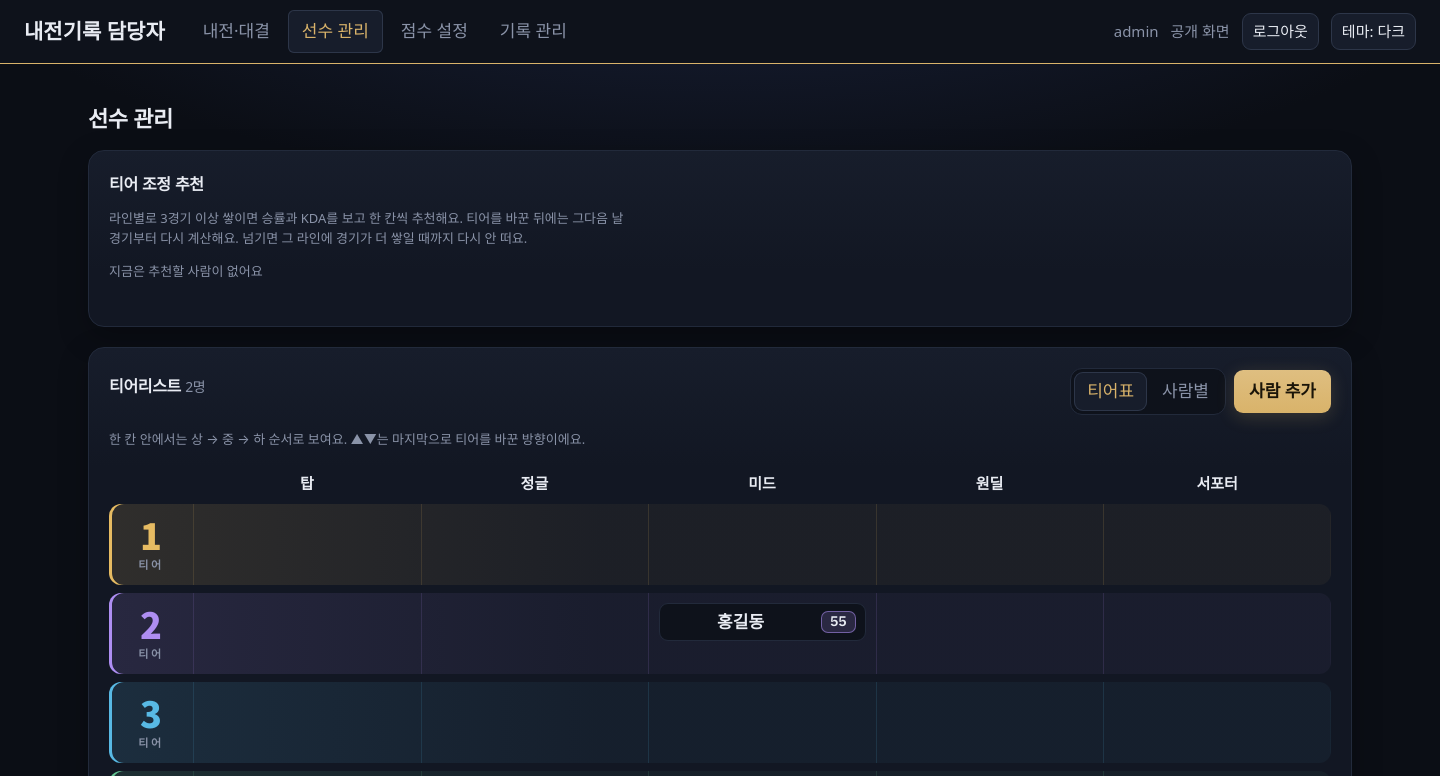
Test case: PlayerTierAdminPage › 같은 이름이 이미 있으면 서버를 부르지 않고 막는다
Step 1. Click the button "사람 추가" → (1282, 391), box x1=1234 y1=370 x2=1331 y2=413
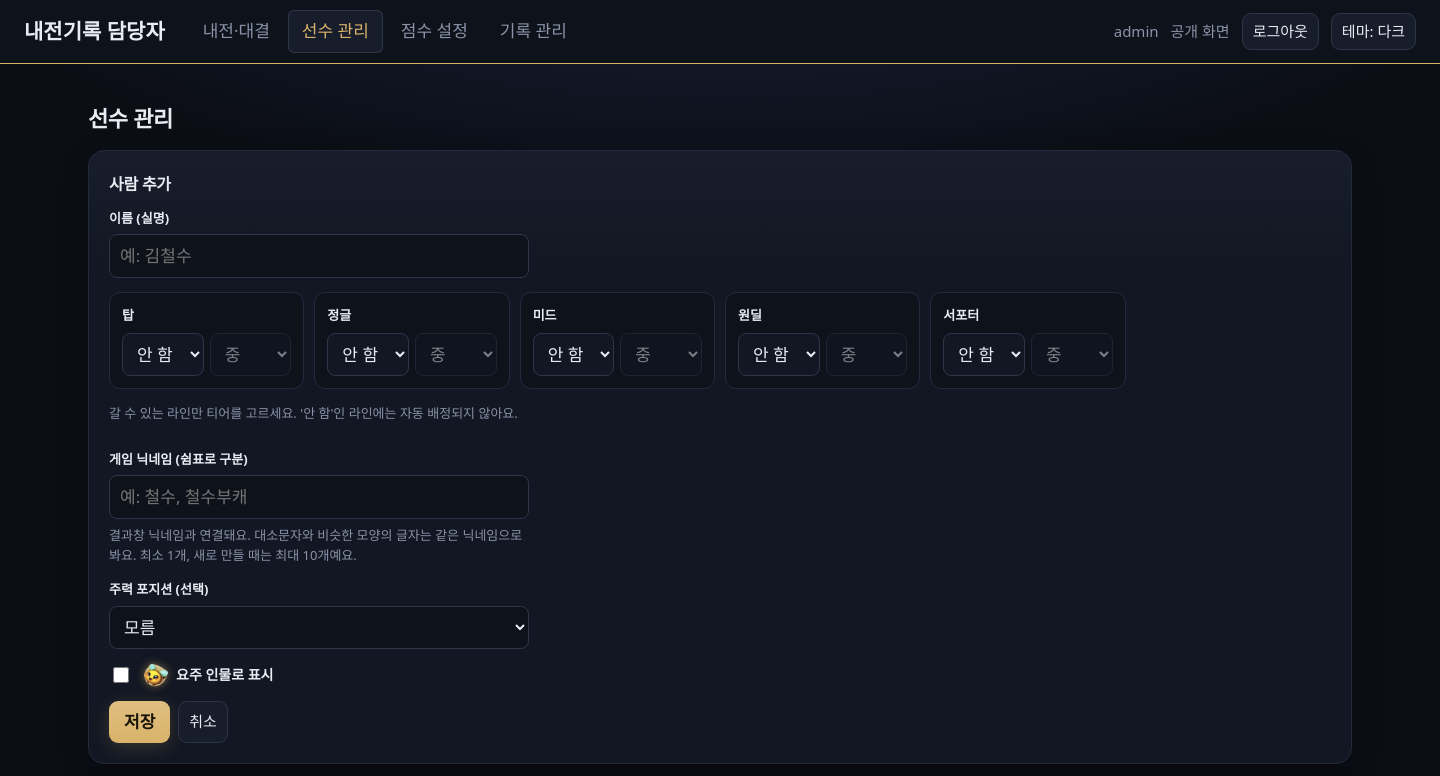
Step 2. Type "김철수" into the field labelled "이름 (실명)" → (319, 256), box x1=109 y1=234 x2=529 y2=278
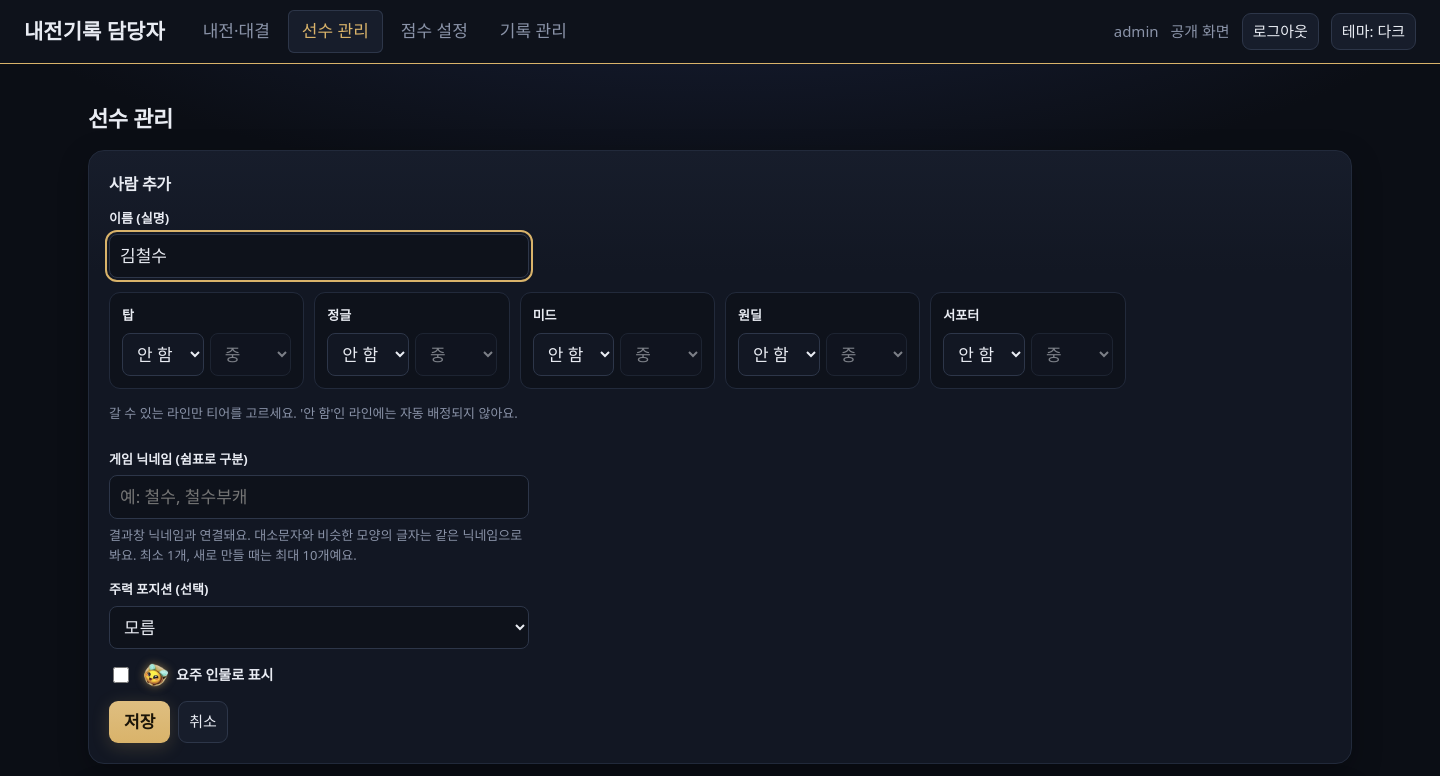
Step 3. Type "x" into the field labelled "게임 닉네임 (쉼표로 구분)" → (319, 497), box x1=109 y1=475 x2=529 y2=519
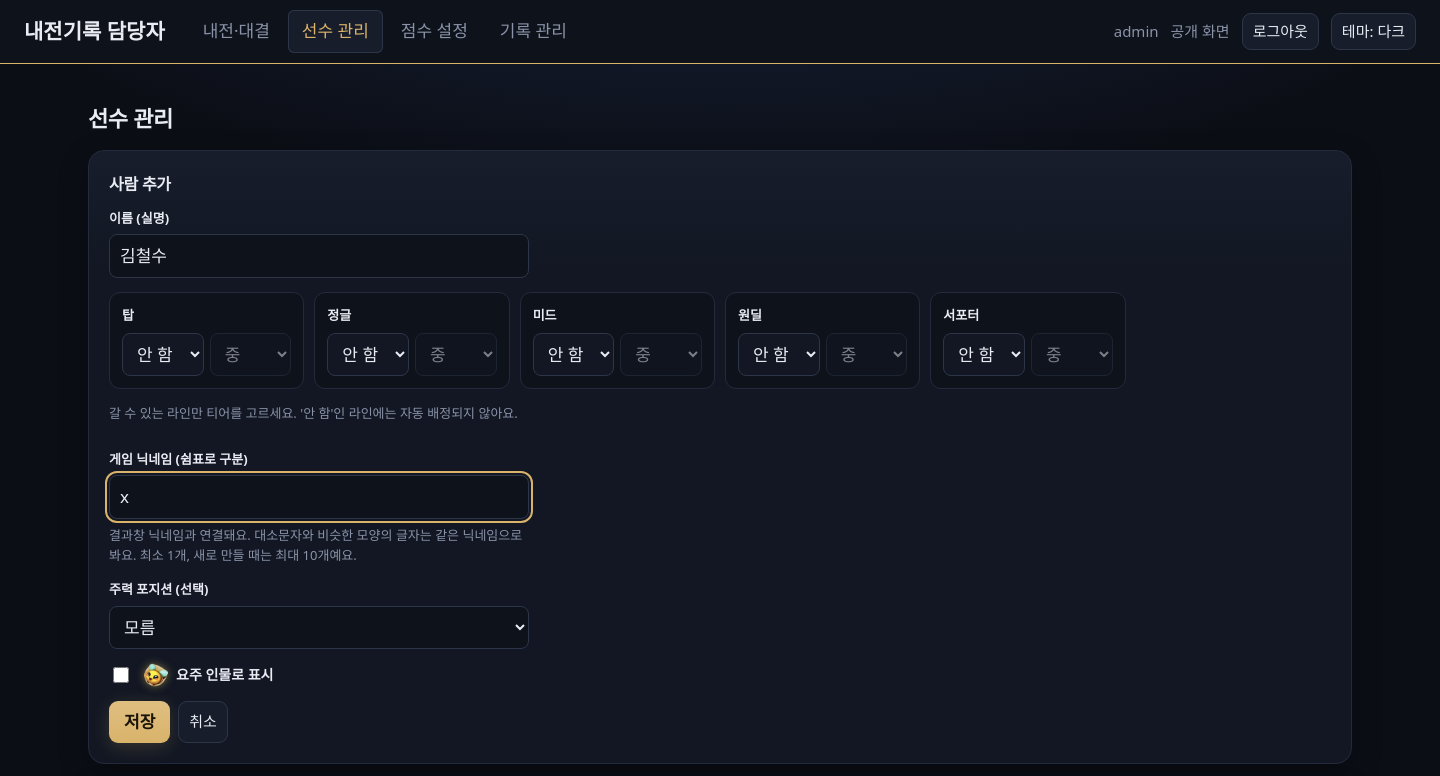
Step 4. Select "1티어" in the dropdown named "탑 티어" → (163, 354), box x1=122 y1=332 x2=204 y2=376
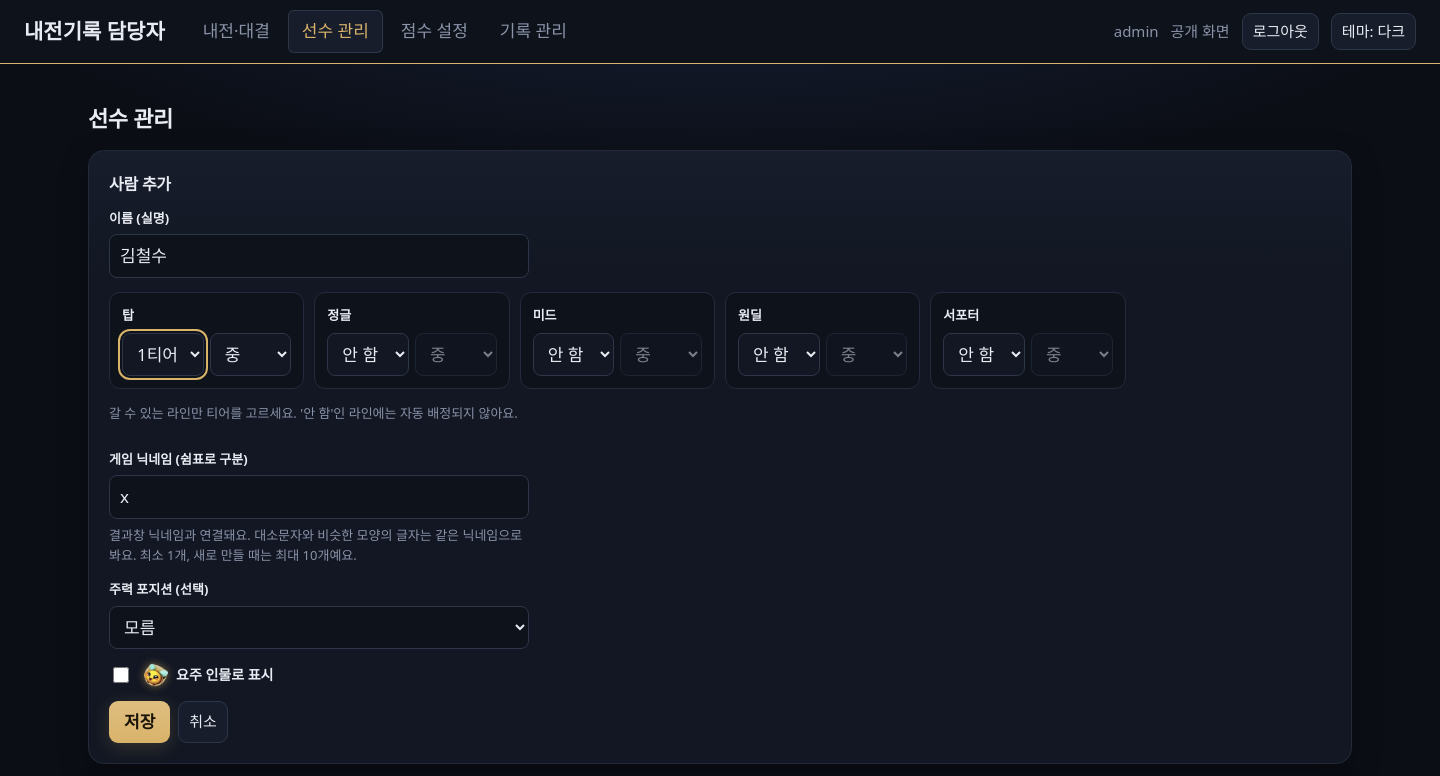
Step 5. Click the button "저장" → (140, 722), box x1=109 y1=701 x2=170 y2=743
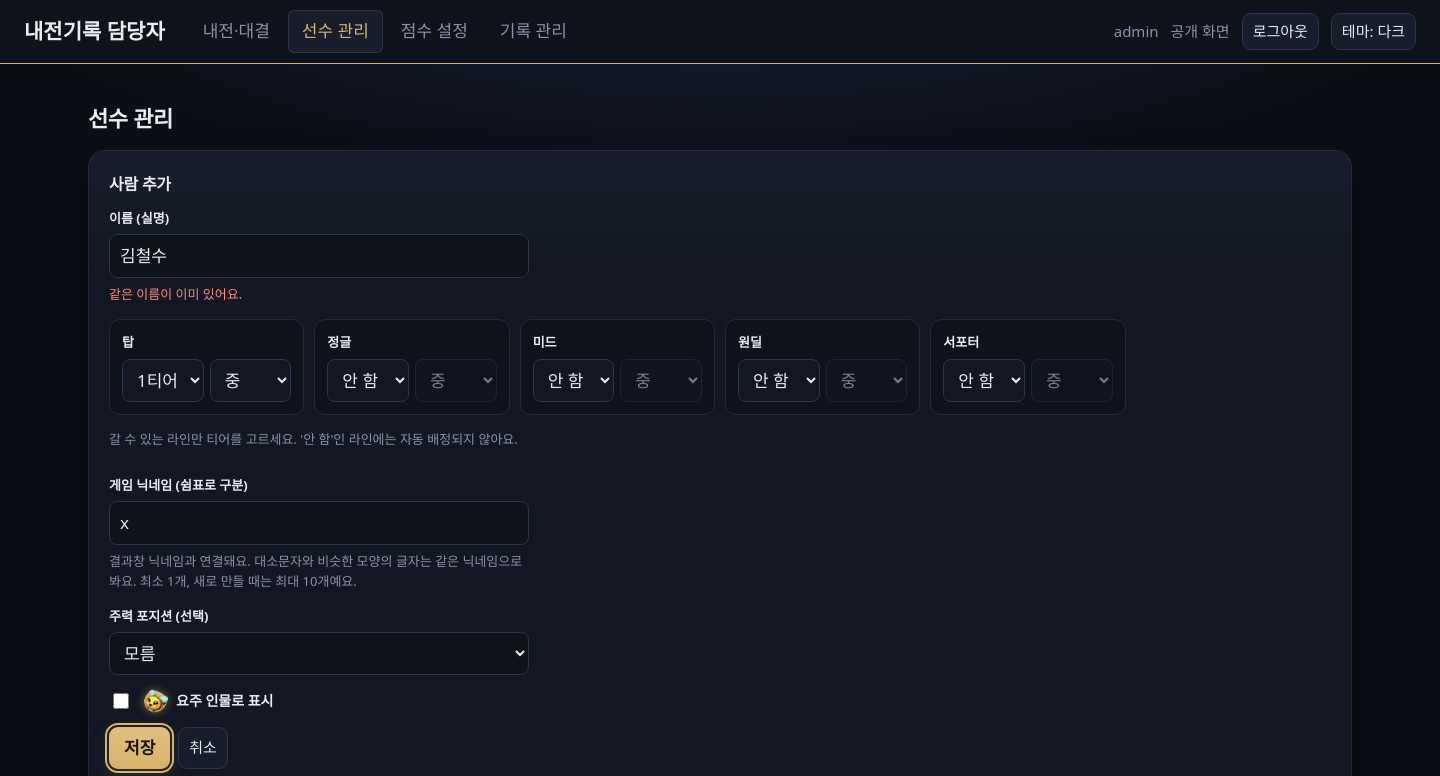
Expected: the text "같은 이름이 이미 있어요." is shown, x1=109 y1=285 x2=242 y2=303
